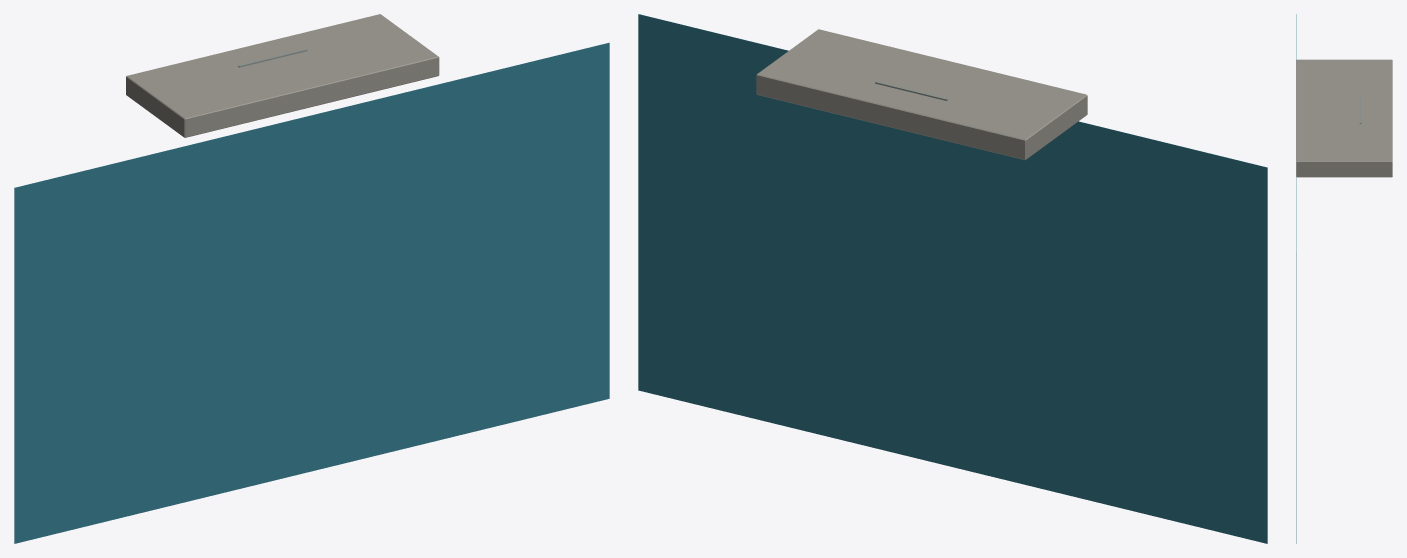
Rendered from reservoir_dam.glb.
The picture shows the model from 3 angles, left to right: view 1: azimuth 30°, elevation 25°; view 2: azimuth 150°, elevation 25°; view 3: azimuth 270°, elevation 25°; orthographic projection. The views are drawn at different scales.
Parts seen in each view (by area): view 1: reservoir, dam_wall; view 2: reservoir, dam_wall; view 3: dam_wall, reservoir.
Boxes of the visible parts, box(x1,y1,x2,y2) form: reservoir: box(14, 42, 609, 543); dam_wall: box(126, 14, 439, 137); reservoir: box(638, 14, 1267, 543); dam_wall: box(756, 29, 1087, 160); dam_wall: box(1296, 59, 1392, 177); reservoir: box(1296, 14, 1296, 543).
Size of the model in its own units: 70 by 43.25 by 12.
